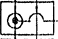Single Phase Tap-Off Unit: (0, 0, 56, 37)
